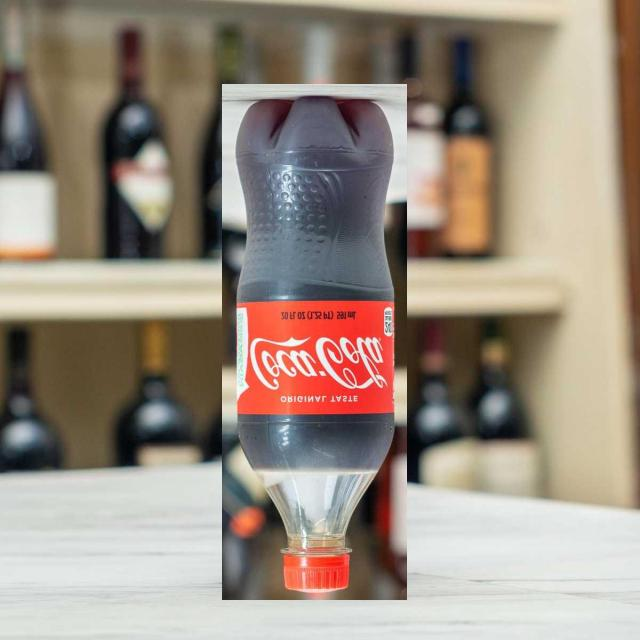coca-cola: (222, 84, 407, 600)
